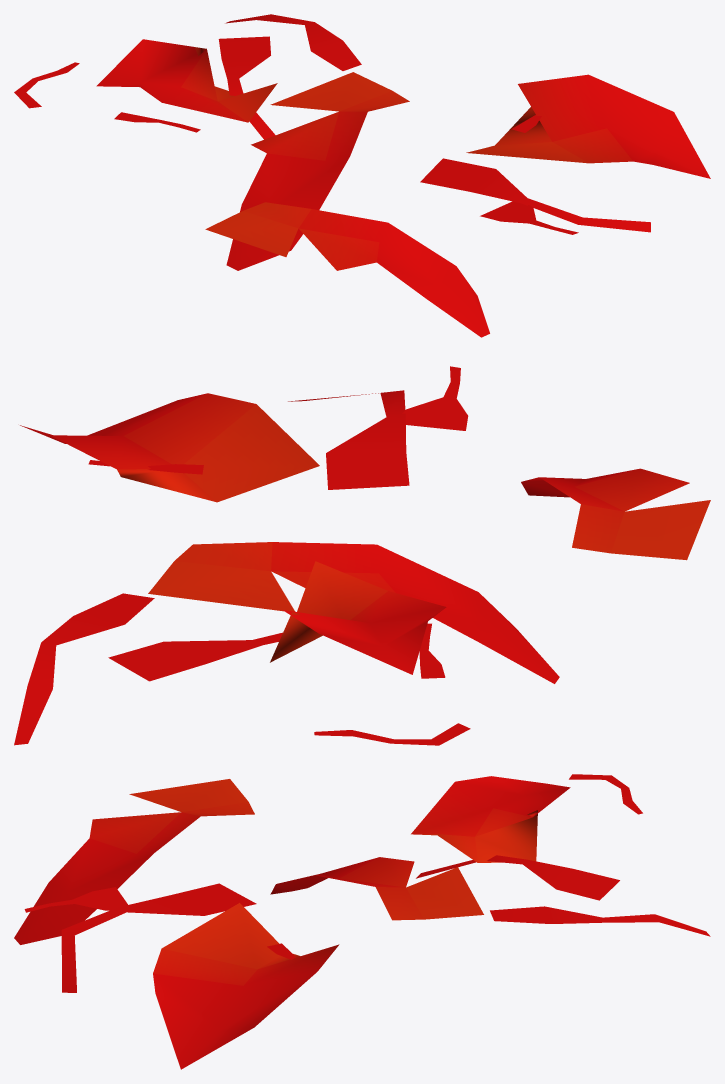
Rendered from Xanadu_LOD2_Var9_siroZ.fbx.
3 views of the same model, one above another, from view 1: azimuth 30°, elevation 25°; view 2: azimuth 150°, elevation 25°; view 3: azimuth 270°, elevation 25° (orthographic). The views are drawn at different scales.
Parts seen in each view (by area): view 1: _b936_Var9_LOD2; view 2: _b936_Var9_LOD2; view 3: _b936_Var9_LOD2.
Part boxes in pixels (bbox=[...]): _b936_Var9_LOD2: bbox=[14, 14, 710, 337]; _b936_Var9_LOD2: bbox=[14, 366, 710, 745]; _b936_Var9_LOD2: bbox=[14, 774, 710, 1069].
Bounding box in the file's own units: 38.81 × 9.22 × 46.76.
